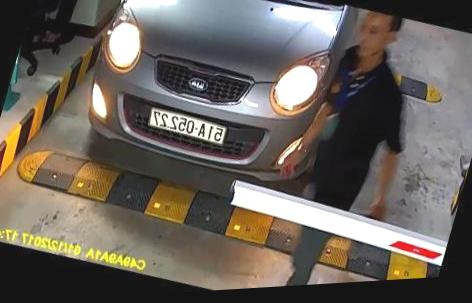License_Plate: (142, 99, 228, 152)
